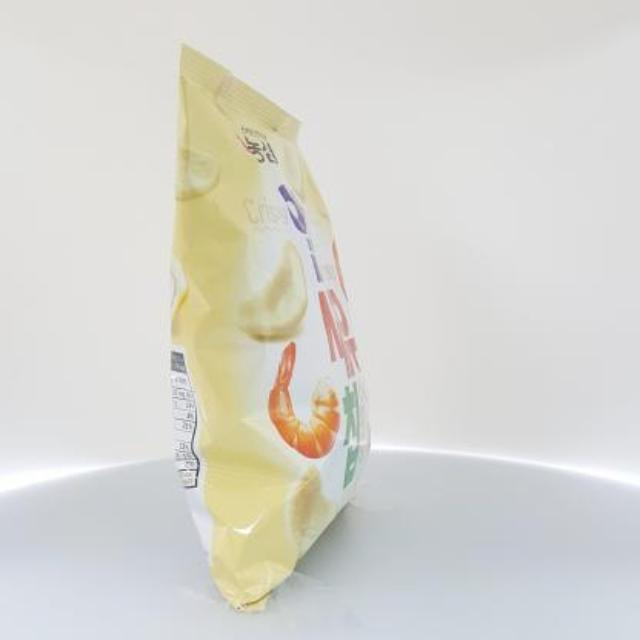snack_bag: (146, 31, 392, 615)
